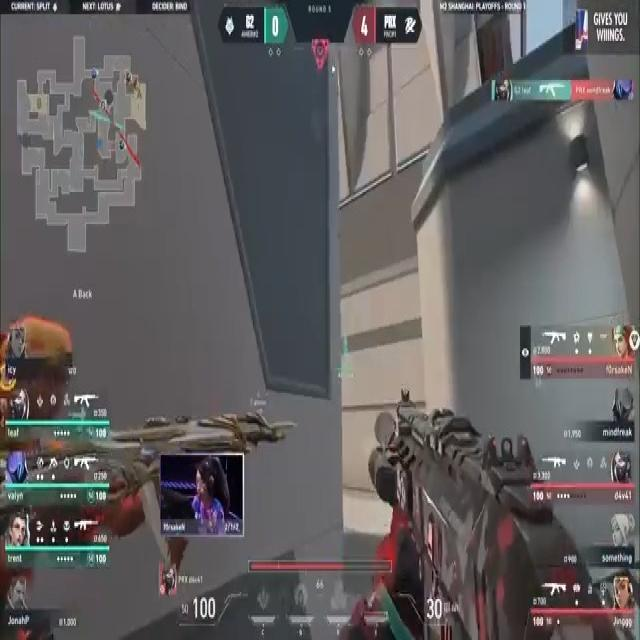enemy: (0, 330, 298, 626)
